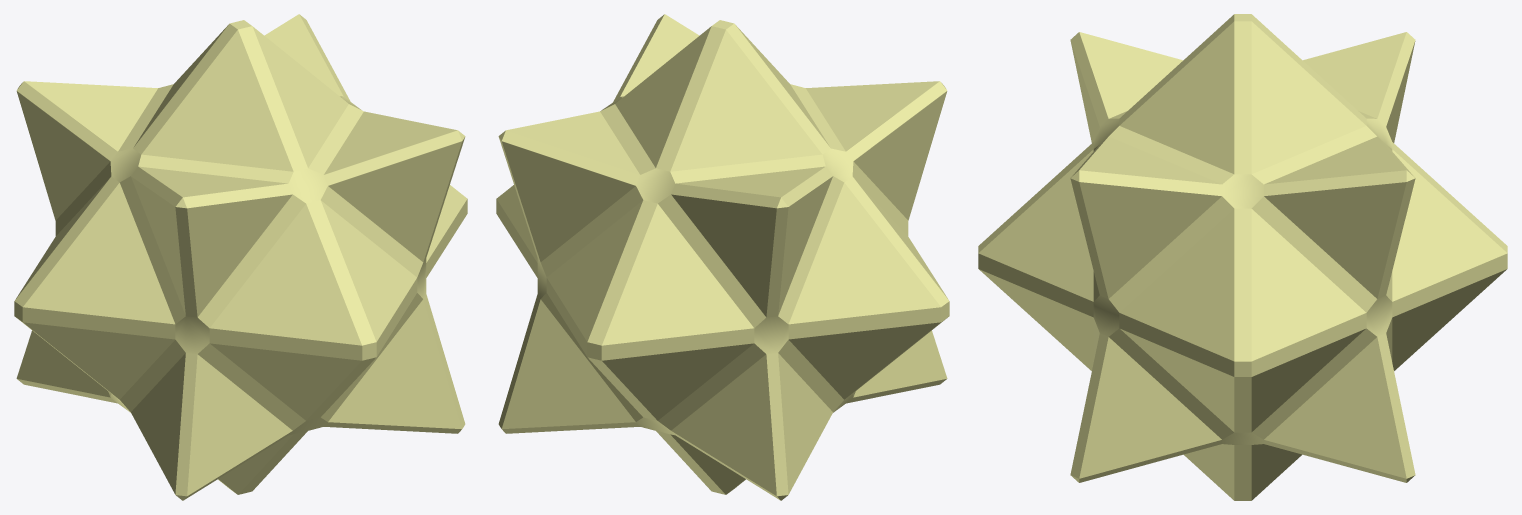
File: sphere emerge star object (1).fbx
3 views of the same model, side by side, from view 1: azimuth 30°, elevation 25°; view 2: azimuth 150°, elevation 25°; view 3: azimuth 270°, elevation 25° (orthographic). The views are drawn at different scales.
Visible parts, largest first — view 1: Cube_002; view 2: Cube_002; view 3: Cube_002.
Boxes of the visible parts, left/top/right/bottom form: Cube_002: left=14, top=14, right=467, bottom=500; Cube_002: left=496, top=14, right=949, bottom=500; Cube_002: left=978, top=14, right=1507, bottom=500.
Size of the model in its own units: 141 by 141 by 141.
